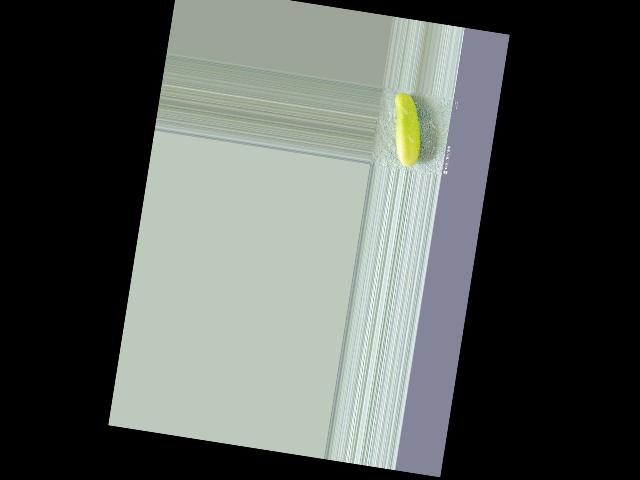cucumber: (385, 91, 428, 167)
